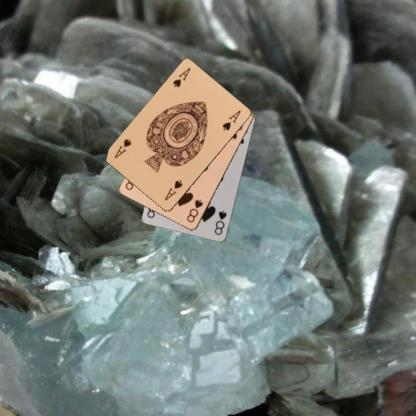8s: (184, 197, 204, 224), (212, 208, 228, 236)
As: (162, 178, 184, 202), (170, 65, 192, 89)
